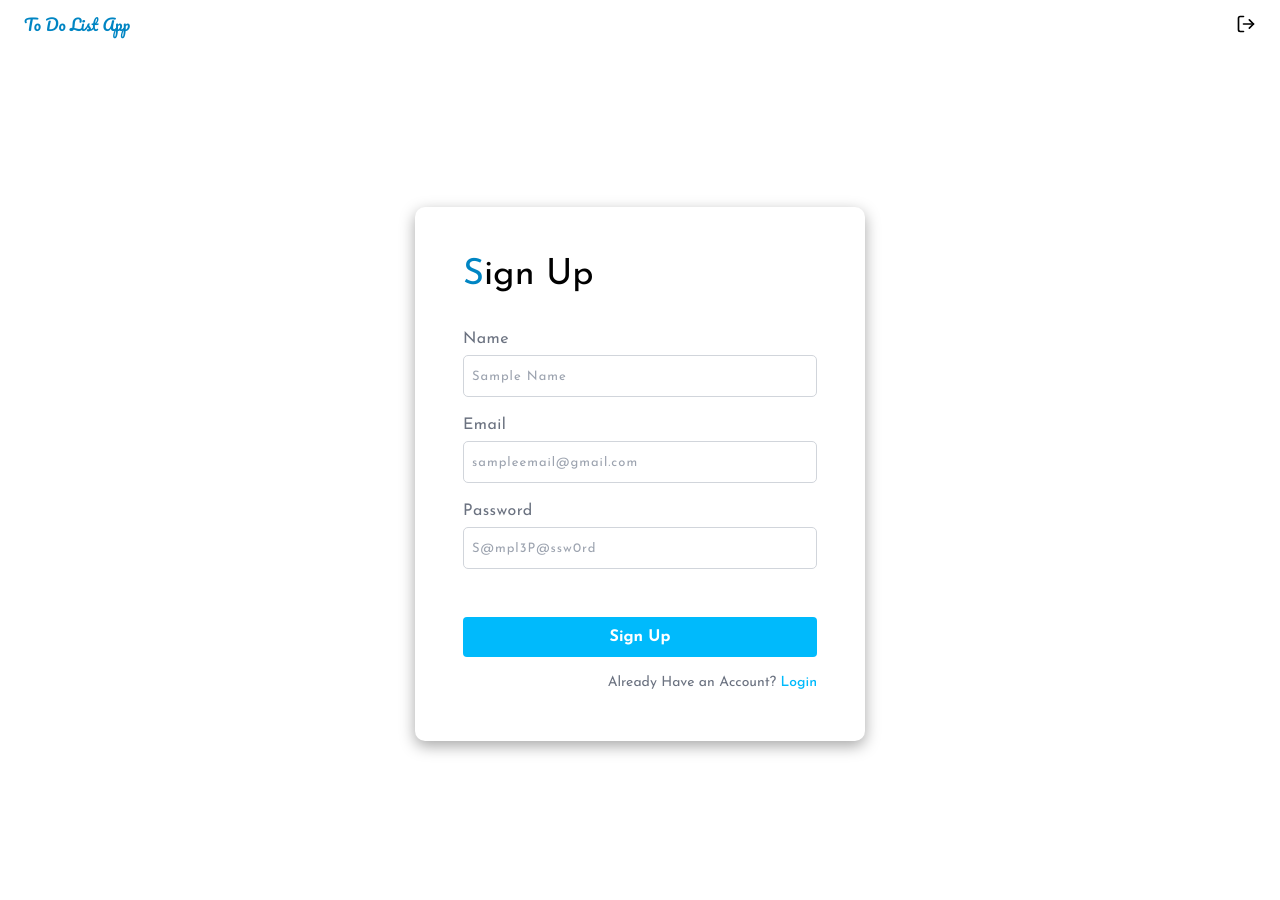
Scenario: Register View › display error on empty name
Click the button "Sign Up" at (640, 637), box [463,617,817,657]
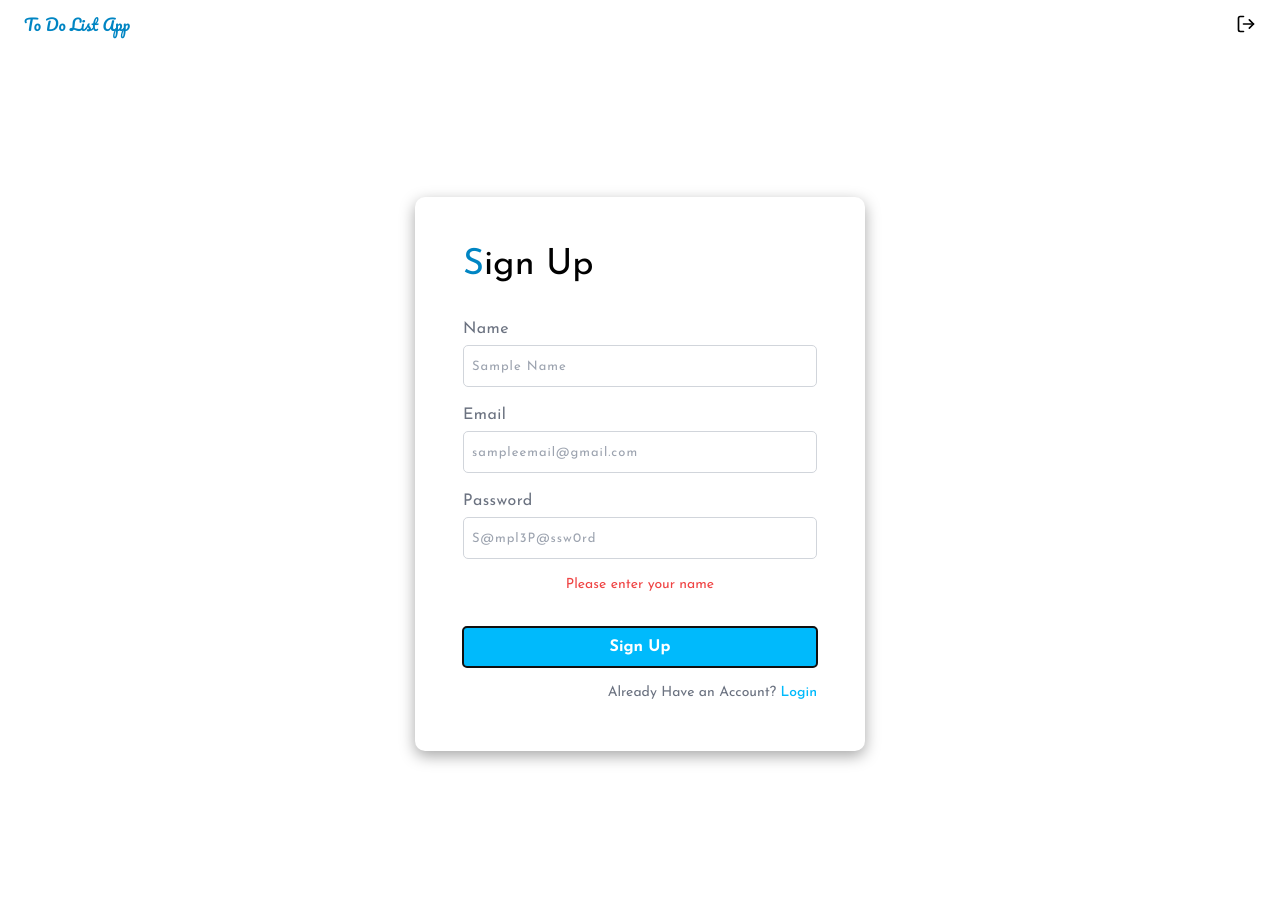
Now the text with test id "error-message" reads "Please enter your name", box [566,577,714,592]
